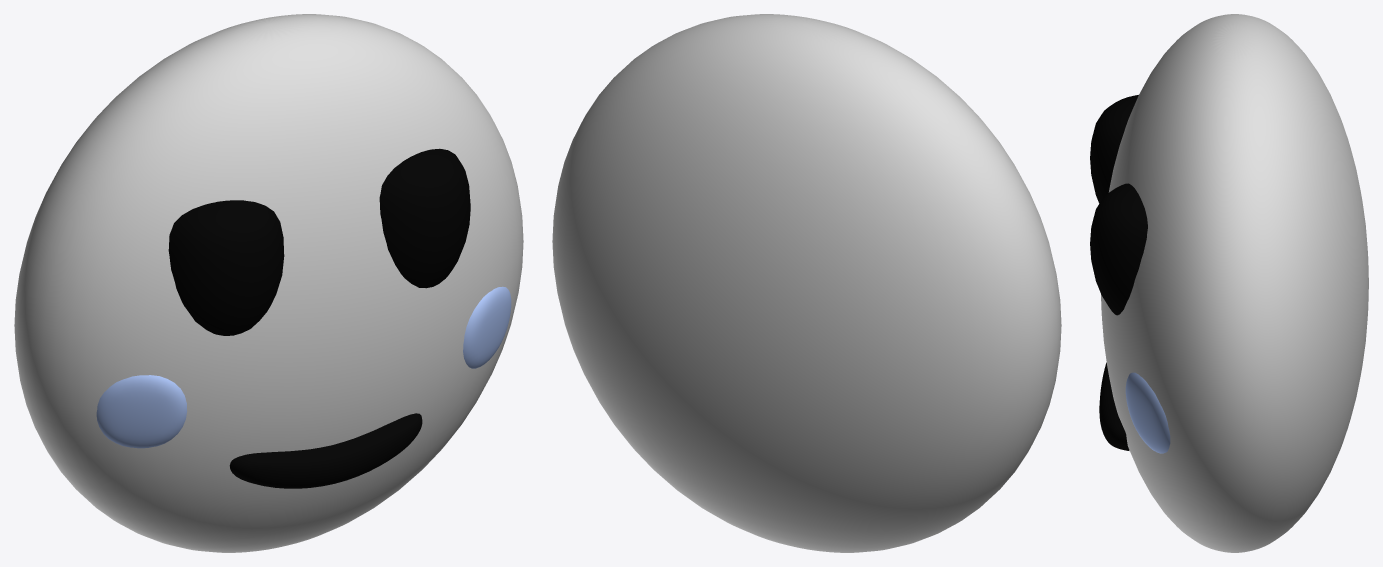
The picture shows the model from 3 angles, left to right: view 1: azimuth 30°, elevation 25°; view 2: azimuth 150°, elevation 25°; view 3: azimuth 270°, elevation 25°; orthographic projection. The views are drawn at different scales.
Visible parts, largest first — view 1: Face; view 2: Face; view 3: Face.
Boxes of the visible parts, x1,y1,x2,y2 form: Face: (14, 14, 523, 552); Face: (552, 14, 1061, 552); Face: (1090, 14, 1368, 552).
Size of the model in its own units: 197 by 200 by 103.
